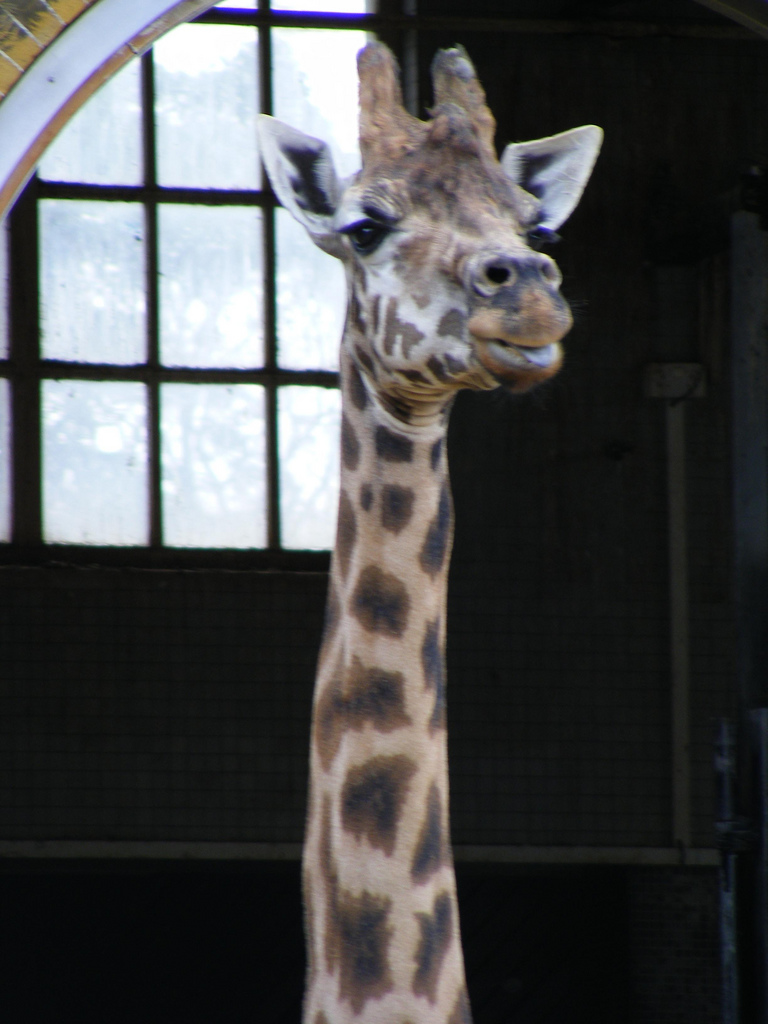giraffe: (206, 15, 634, 979)
